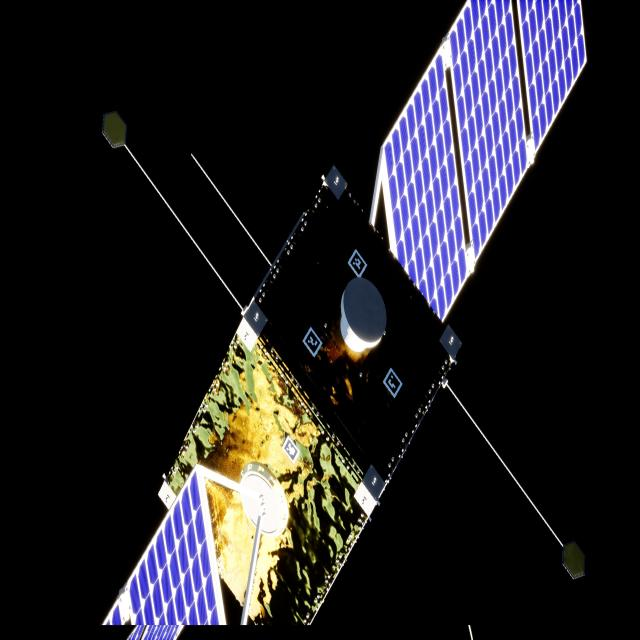satellite: (102, 0, 587, 630)
